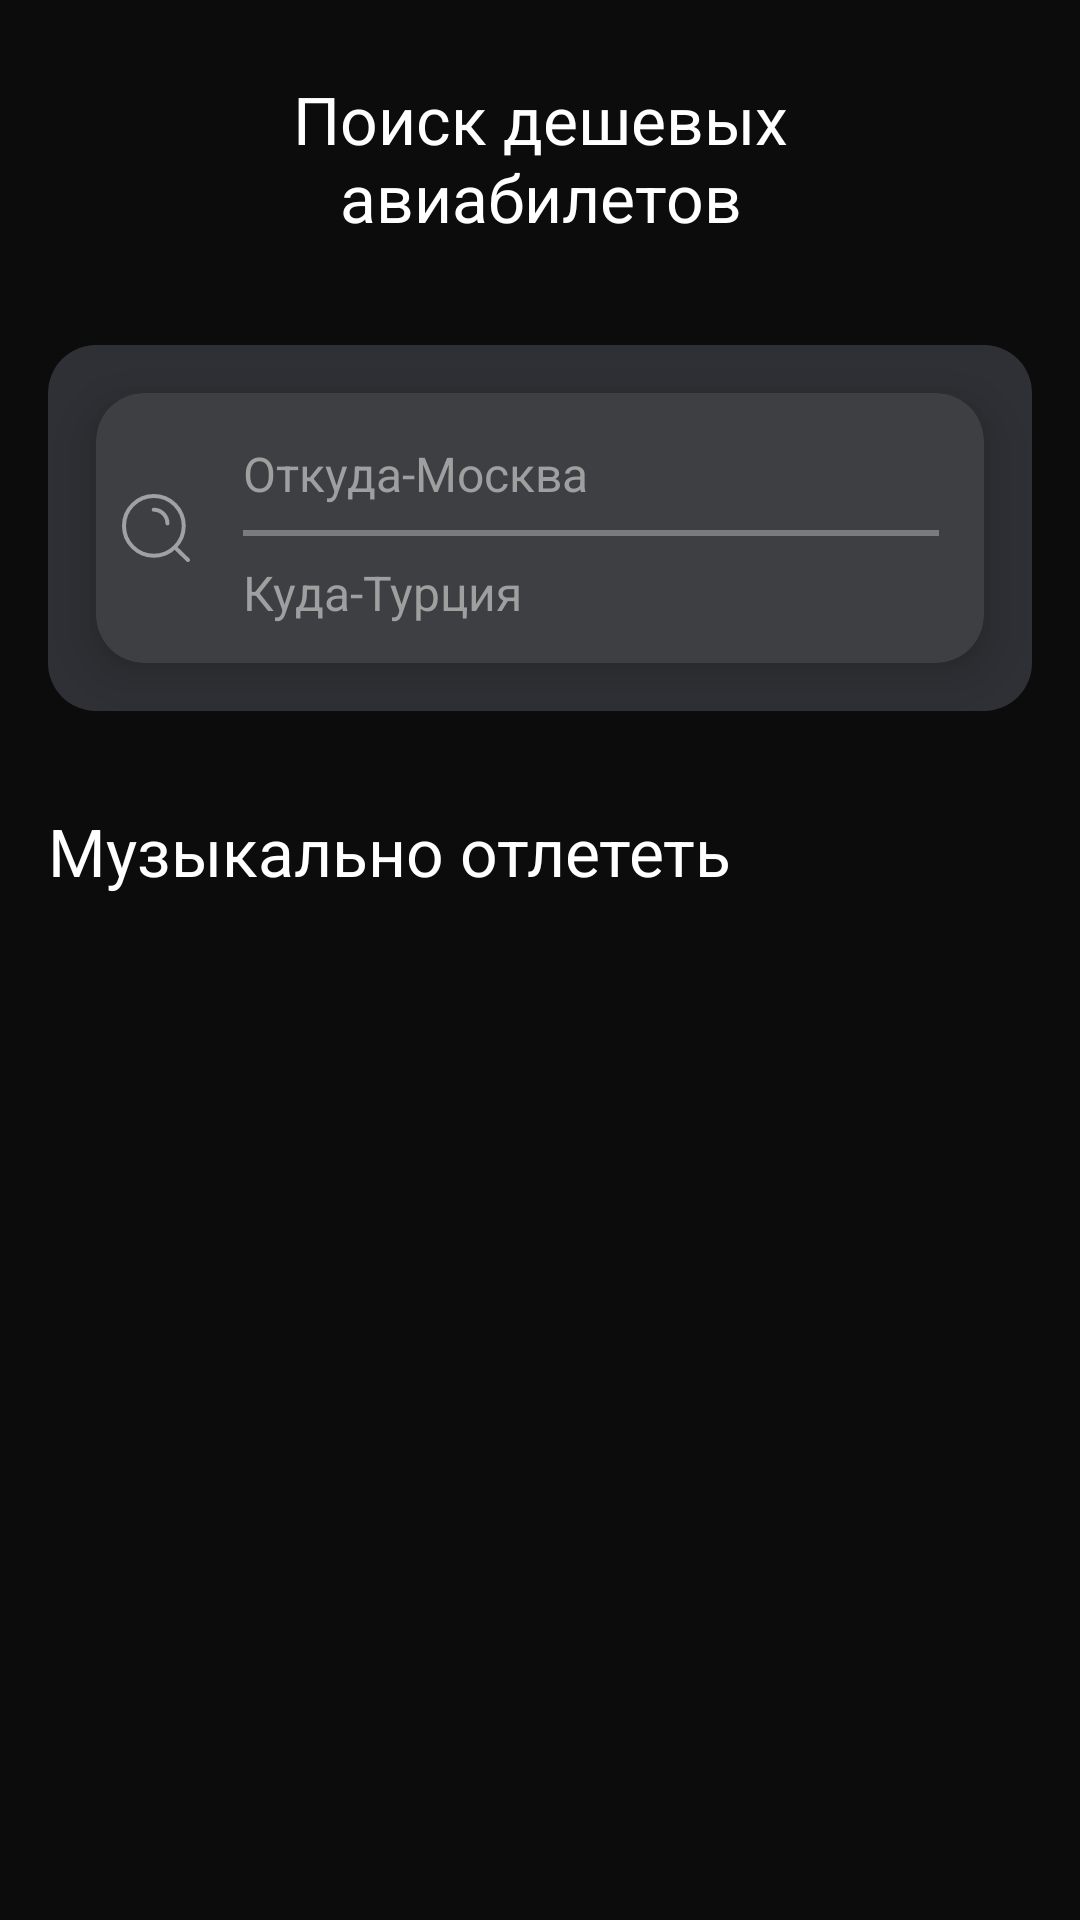

Icons on this 1080w x 1920h Android screen, each with its box as [x1, y1, x2, y2]:
loup: [122, 494, 190, 562]
